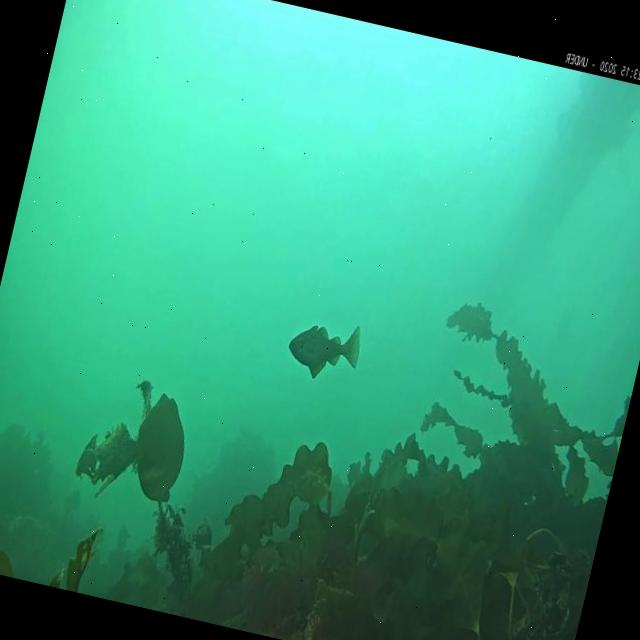fish: (284, 312, 366, 384)
